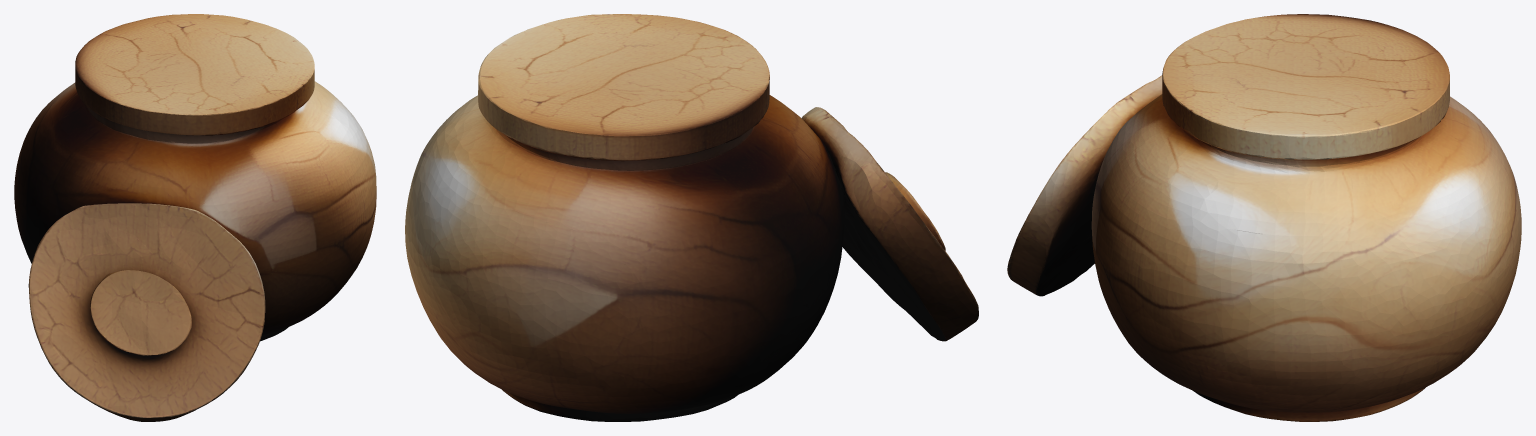
Rendered from cork-lid-storage-jar-organic hi-res.jpeg.glb.
3 renders of one model, left to right at view 1: azimuth 30°, elevation 25°; view 2: azimuth 150°, elevation 25°; view 3: azimuth 270°, elevation 25°, orthographic. The views are drawn at different scales.
Visible parts, largest first — view 1: world; view 2: world; view 3: world.
Part boxes in pixels (x1,y1,x2,y2): world: (14,14,376,421); world: (405,14,978,421); world: (1007,14,1521,421).
Size of the model in its own units: 0.9998 by 0.6274 by 0.9799.
Materials: 1 (1 with a texture image).
